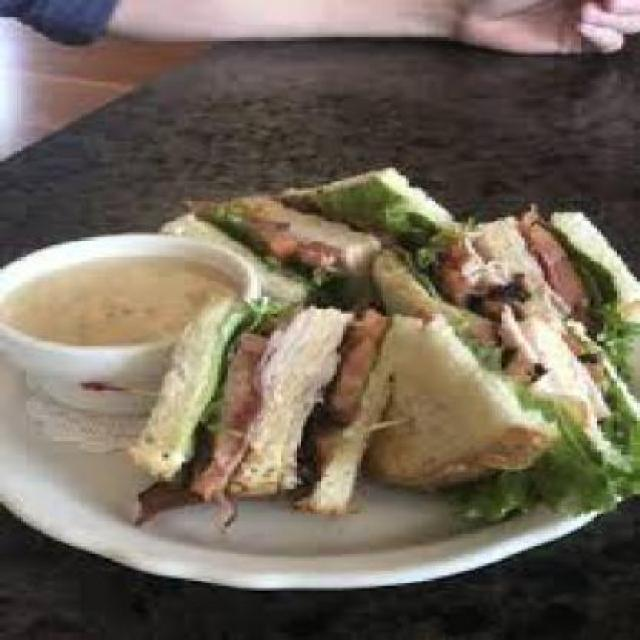club sandwich: (138, 153, 637, 559)
